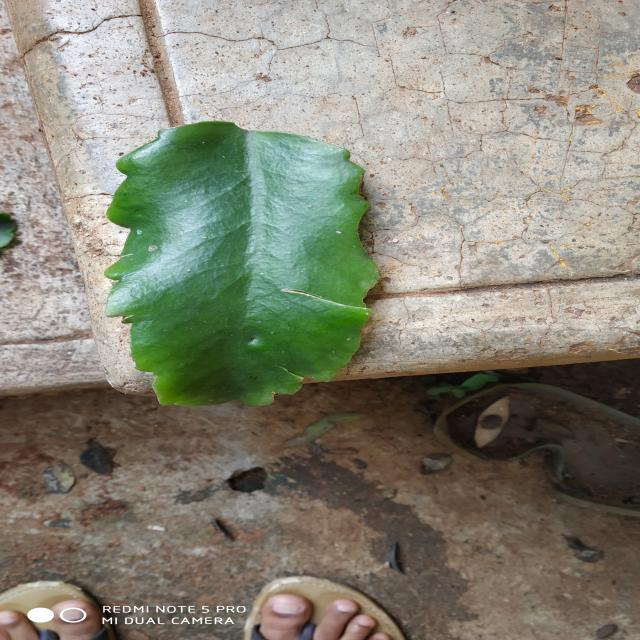spinach: (104, 121, 378, 405)
